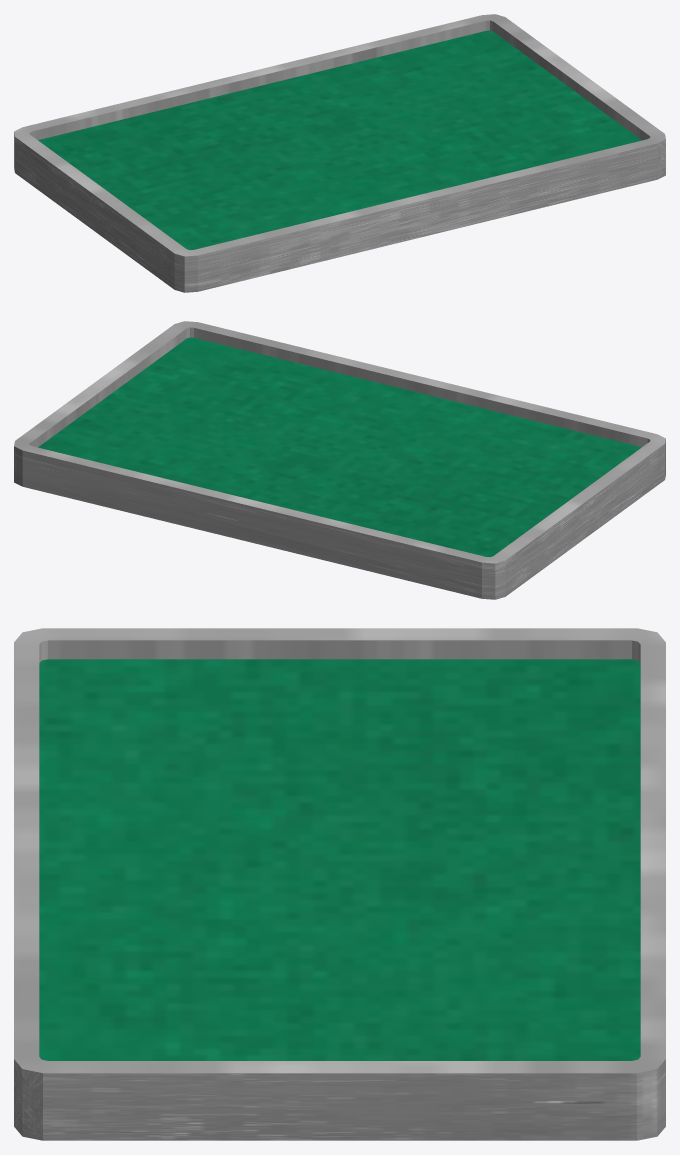
Rendered from colored frame.fbx.
3 renders of one model, top to bottom at view 1: azimuth 30°, elevation 25°; view 2: azimuth 150°, elevation 25°; view 3: azimuth 270°, elevation 25°, orthographic. The views are drawn at different scales.
Visible parts, largest first — view 1: Cube.006; view 2: Cube.006; view 3: Cube.006.
Boxes of the visible parts, left/top/right/bottom form: Cube.006: left=14, top=14, right=665, bottom=292; Cube.006: left=14, top=321, right=665, bottom=599; Cube.006: left=14, top=628, right=665, bottom=1140.
Size of the model in its own units: 185 by 13.11 by 115.
Materials: 2 (2 with a texture image).
